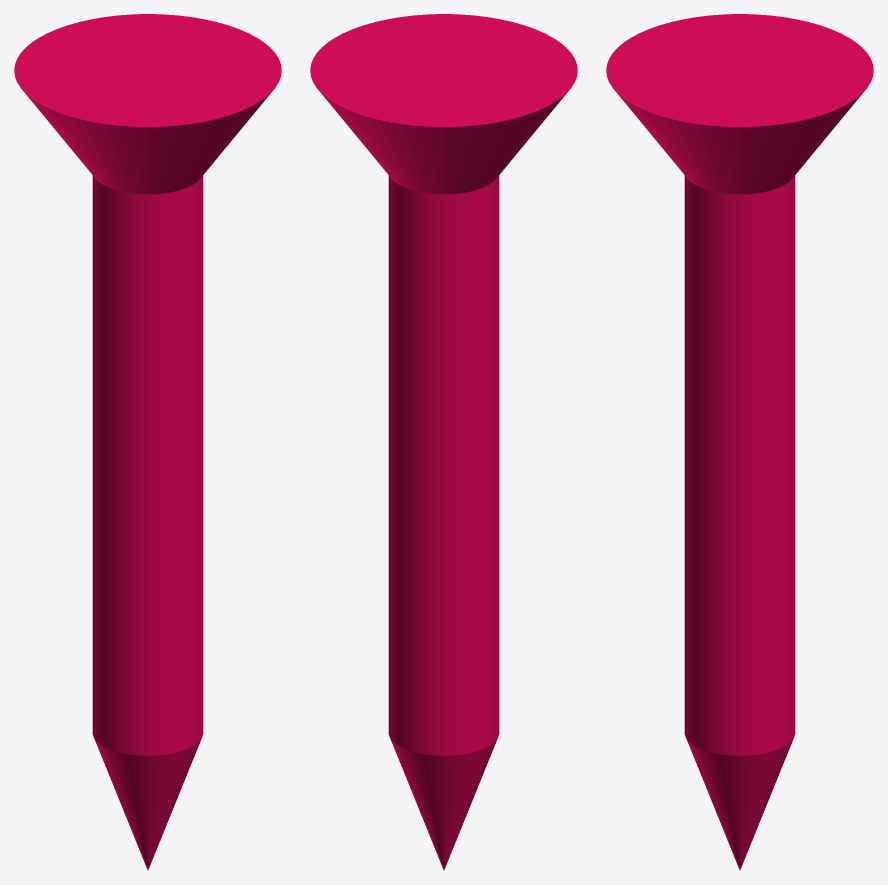
3 renders of one model, left to right at view 1: azimuth 30°, elevation 25°; view 2: azimuth 150°, elevation 25°; view 3: azimuth 270°, elevation 25°, orthographic.
Parts seen in each view (by area): view 1: 円柱.008; view 2: 円柱.008; view 3: 円柱.008.
Boxes of the visible parts, x1,y1,x2,y2 form: 円柱.008: (14,14,281,870); 円柱.008: (310,14,577,870); 円柱.008: (606,14,873,870).
Size of the model in its own units: 1.4 by 4.62 by 1.4.
